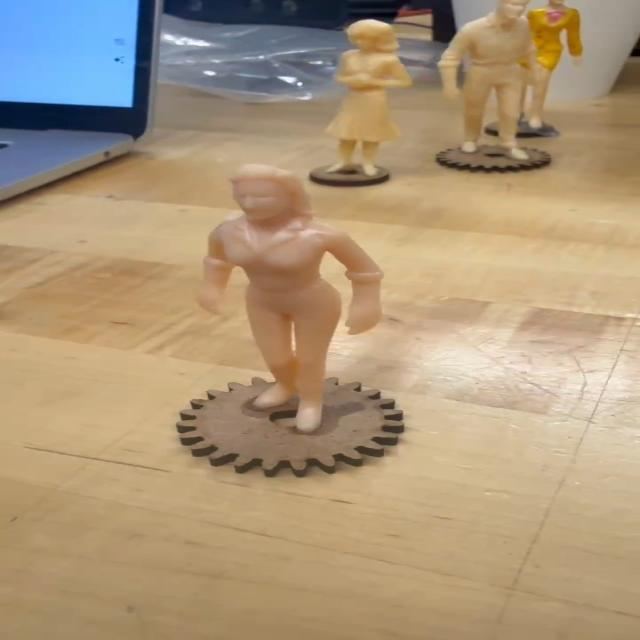Unauthorized: (169, 150, 426, 442)
